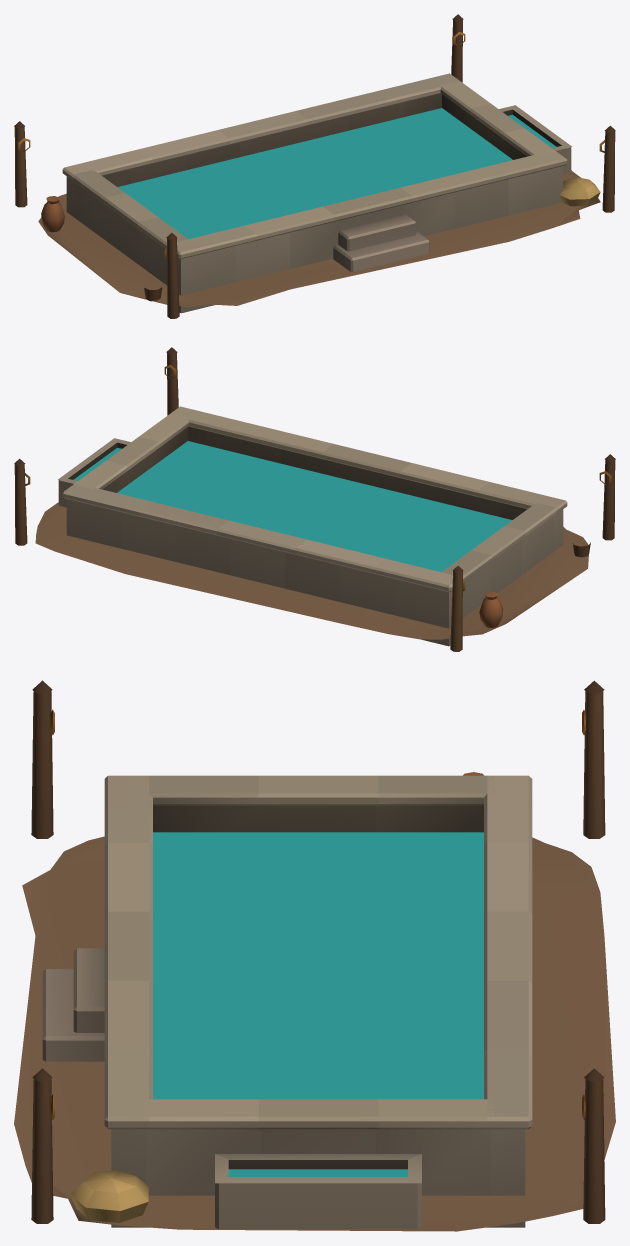
The model's file is bassin.glb.
The picture shows the model from 3 angles, top to bottom: view 1: azimuth 30°, elevation 25°; view 2: azimuth 150°, elevation 25°; view 3: azimuth 270°, elevation 25°; orthographic projection. The views are drawn at different scales.
Visible parts, largest first — view 1: bassin, eau; view 2: bassin, eau; view 3: bassin, eau.
Part boxes in pixels (x1,y1,x2,y2): bassin: (14,14,615,318); eau: (117,108,556,239); bassin: (14,347,615,651); eau: (73,441,512,572); bassin: (14,680,615,1231); eau: (153,832,483,1177).
Bounding box in the file's own units: 2.83 × 0.59 × 1.75.
